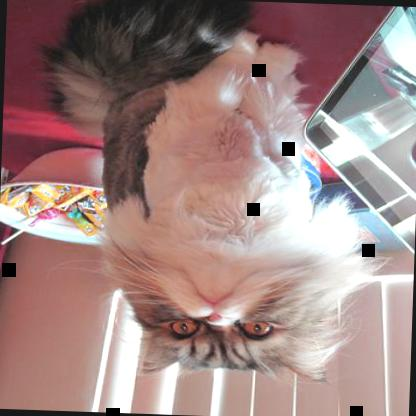cat: (42, 0, 383, 385)
